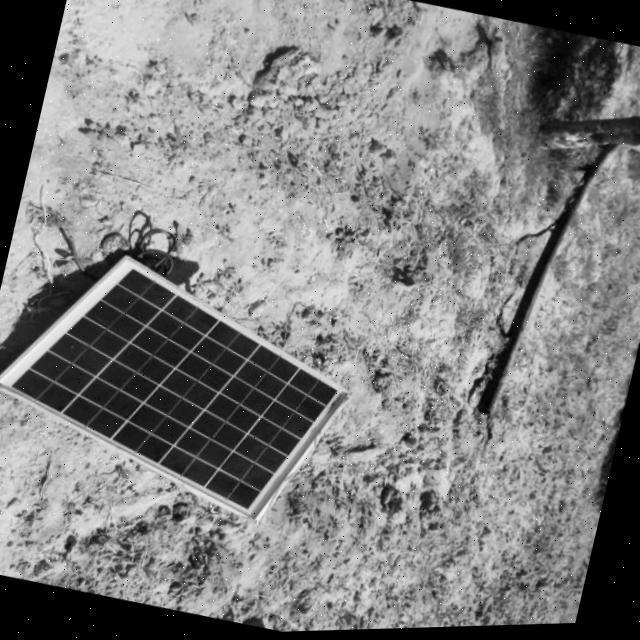Normal Solar Panel: (0, 227, 370, 543)
